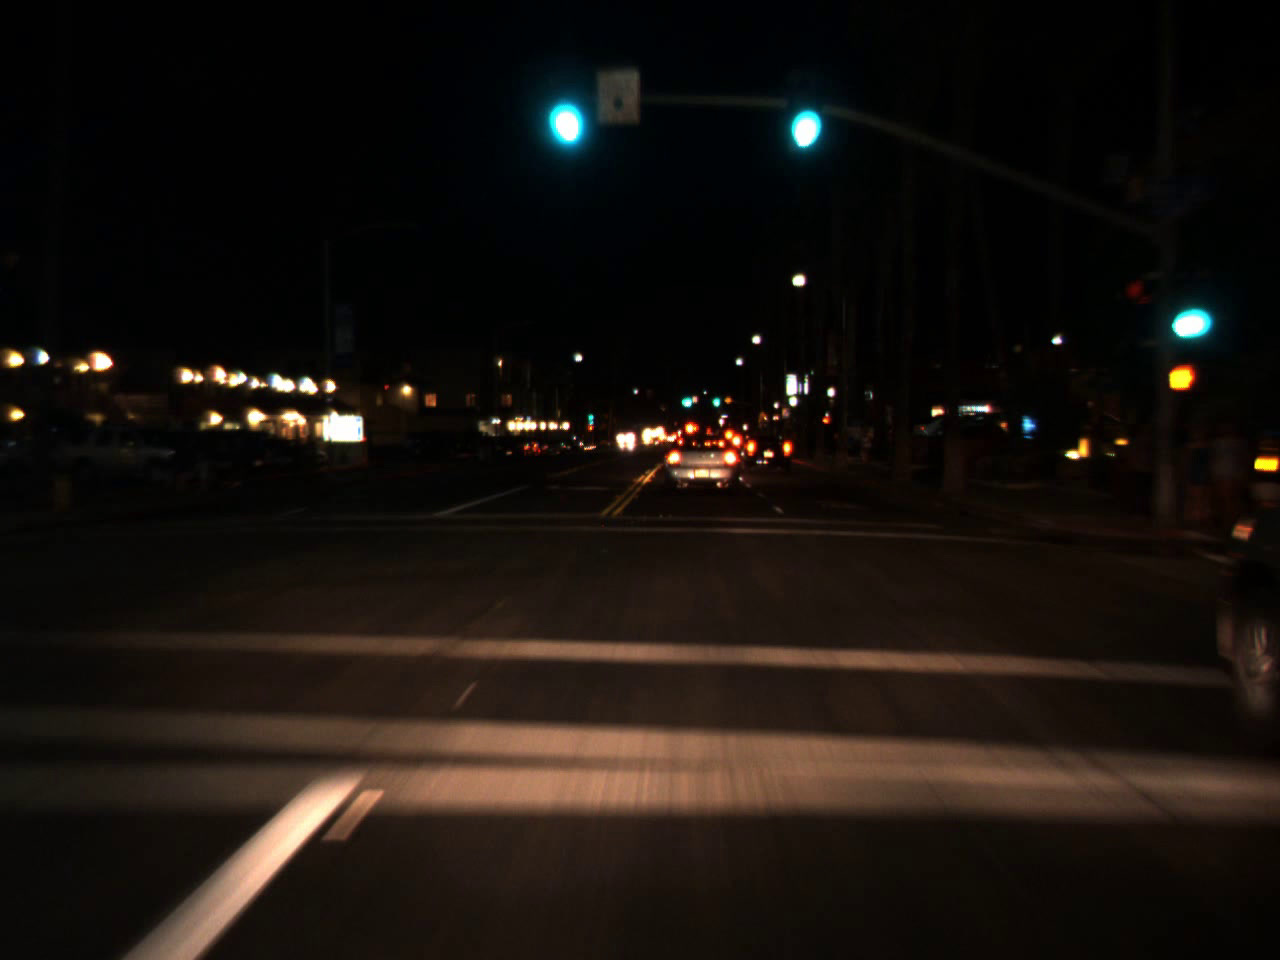go: (1160, 273, 1212, 351), (780, 76, 823, 160), (545, 70, 584, 154), (677, 387, 695, 408), (711, 388, 720, 409), (586, 410, 593, 422)
